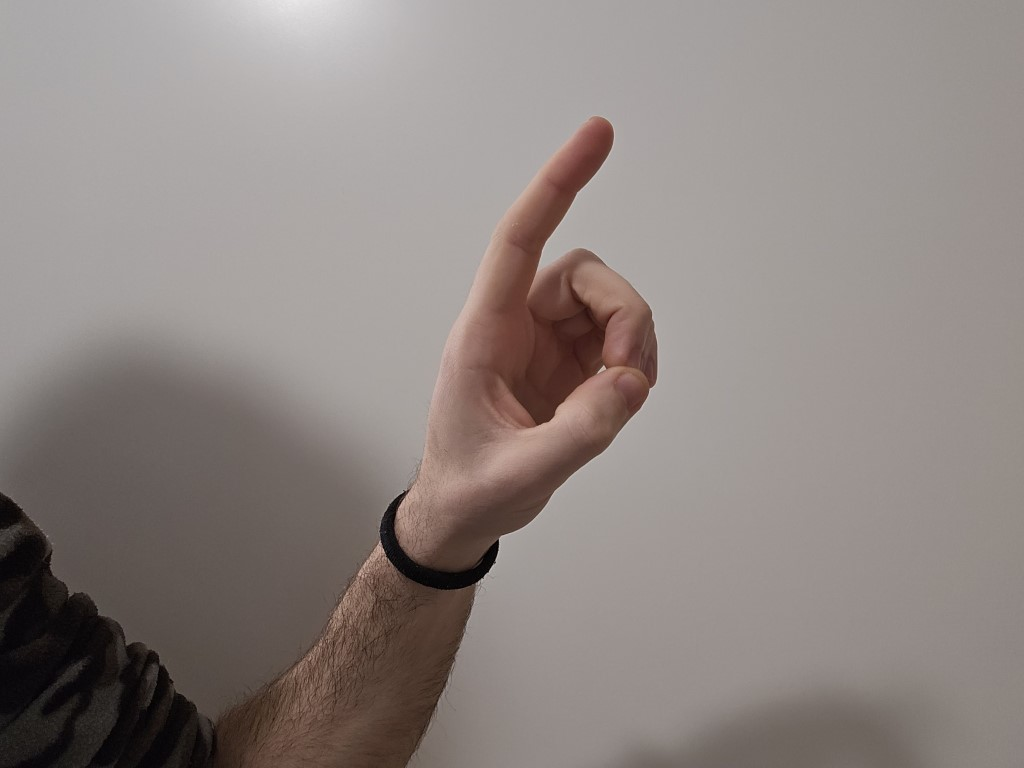d: (390, 100, 694, 550)
